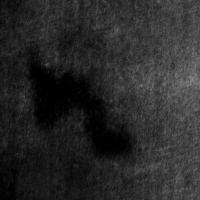patches: (86, 98, 200, 200), (27, 53, 132, 157), (0, 140, 94, 200), (119, 0, 200, 59)
